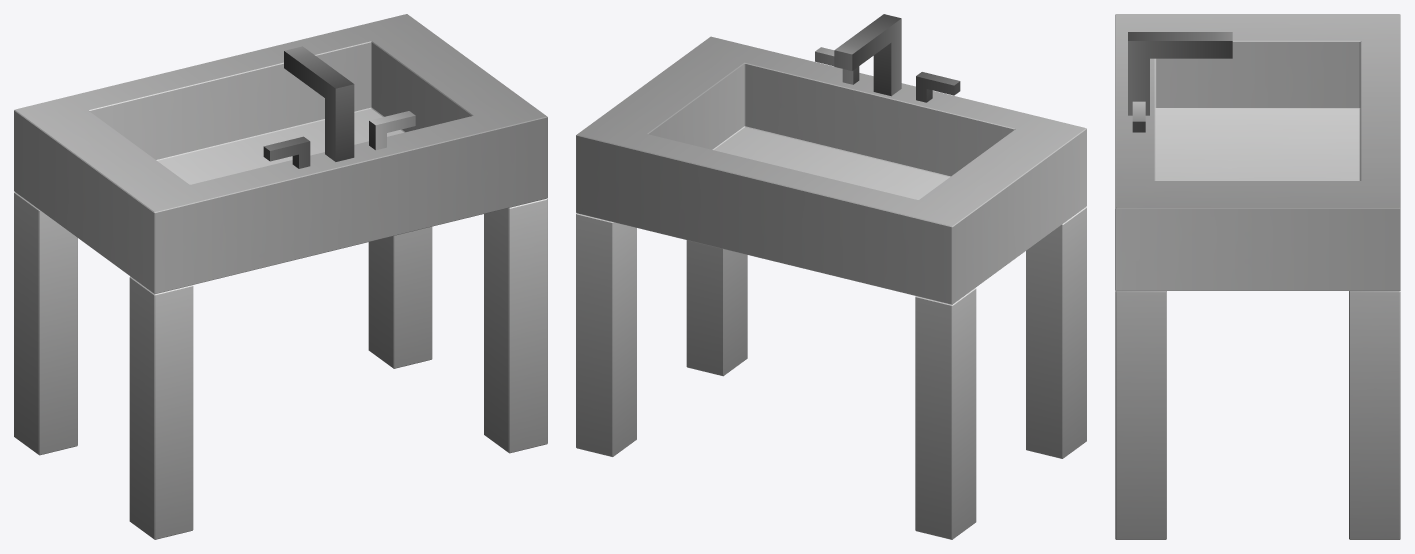
The model's file is JanitorSink.fbx.
3 views of the same model, side by side, from view 1: azimuth 30°, elevation 25°; view 2: azimuth 150°, elevation 25°; view 3: azimuth 270°, elevation 25° (orthographic). The views are drawn at different scales.
Parts seen in each view (by area): view 1: JanitorSink; view 2: JanitorSink; view 3: JanitorSink.
Boxes of the visible parts, bbox=[...] form: JanitorSink: bbox=[14, 14, 547, 539]; JanitorSink: bbox=[576, 14, 1086, 539]; JanitorSink: bbox=[1115, 14, 1400, 539].
Bounding box in the file's own units: 189 × 184 × 117.
1 material, 1 textured.
